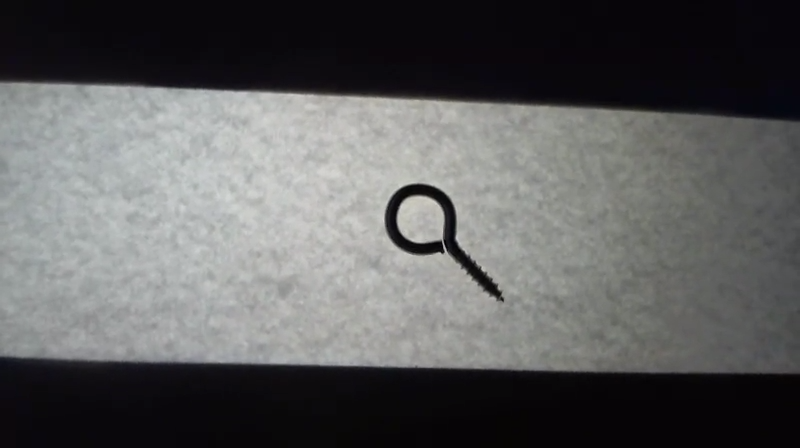O001: (377, 179, 507, 303)
